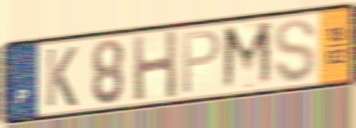8: (90, 37, 126, 107)
H: (131, 28, 180, 104)
K: (44, 45, 80, 110)
M: (220, 19, 276, 94)
P: (180, 27, 223, 97)
S: (272, 17, 318, 85)
